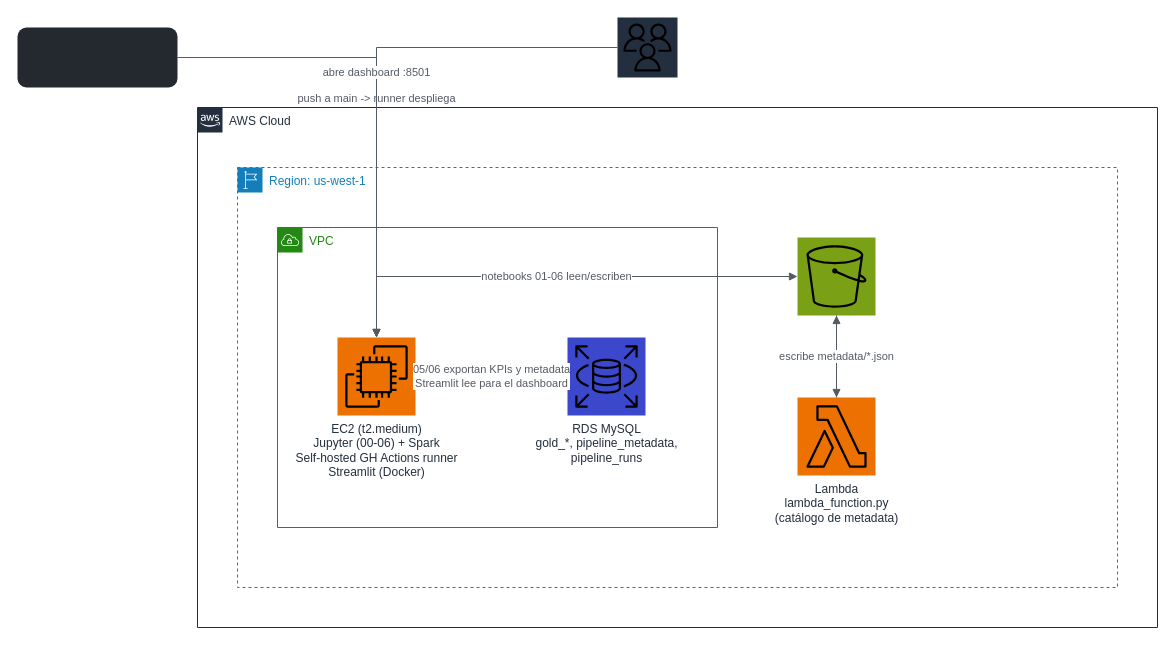
The diagram is 1175 pixels wide and 645 high, and some of its shapes have lost their labels. Each missing label, with the centre of its shape:
GitHub (repo privado Streamlit): the point at 97,57
S3 raw_data / clean_data / gold_data / metadata: the point at 836,276
Usuario / Evaluador: the point at 647,47
